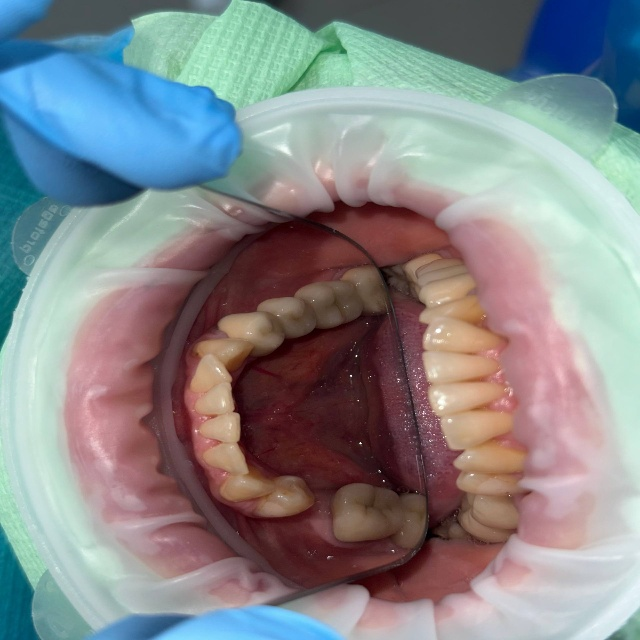clean_tooth: (430, 265, 480, 448), (497, 211, 556, 292), (200, 353, 230, 412), (229, 313, 266, 339), (208, 413, 236, 441)
plaque: (0, 0, 233, 206), (501, 0, 639, 130), (87, 605, 345, 639)
